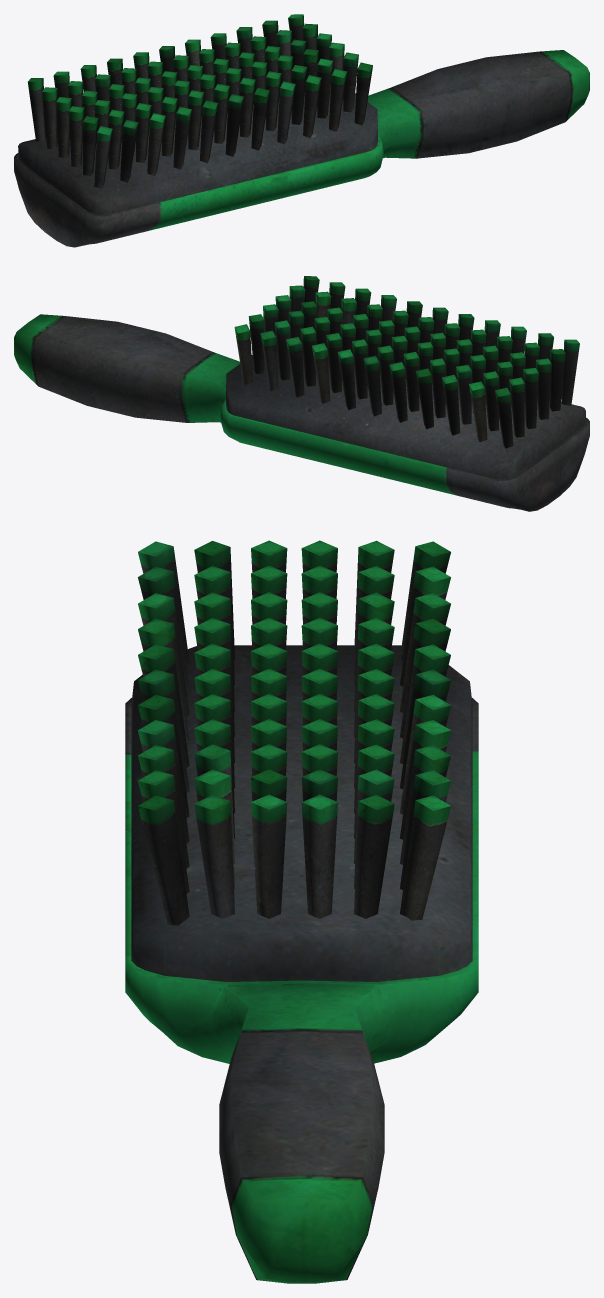
The model's file is hairbrush.dae.
3 views of the same model, one above another, from view 1: azimuth 30°, elevation 25°; view 2: azimuth 150°, elevation 25°; view 3: azimuth 270°, elevation 25° (orthographic). The views are drawn at different scales.
Parts seen in each view (by area): view 1: hairbrush001; view 2: hairbrush001; view 3: hairbrush001.
Part boxes in pixels (x1=…): hairbrush001: x1=14, y1=14, x2=589, y2=247; hairbrush001: x1=14, y1=276, x2=589, y2=511; hairbrush001: x1=125, y1=540, x2=478, y2=1283.
Bounding box in the file's own units: 13.74 × 3.39 × 3.95.
